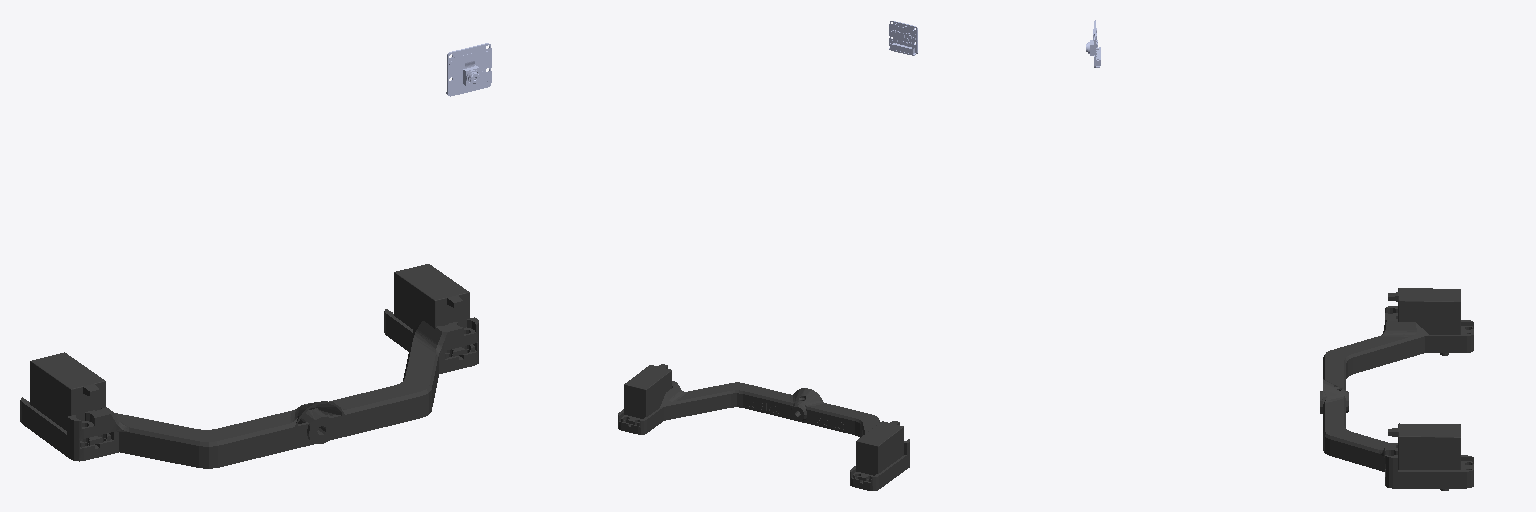
URDF robot description (A01_ExoMy.SLDASM):
<?xml version="1.0" encoding="utf-8"?>
<!-- This URDF was automatically created by SolidWorks to URDF Exporter! Originally created by [author] ([email redacted]) 
     Commit Version: 1.5.1-0-g916b5db  Build Version: 1.5.7152.31018
     For more information, please see http://wiki.ros.org/sw_urdf_exporter -->
<robot
  name="A01_ExoMy.SLDASM">
  <link
    name="base_link">
    <inertial>
      <origin
        xyz="0.000166132844511093 0.122611646294032 0.0176476740142159"
        rpy="0 0 0" />
      <mass
        value="0.620154414365186" />
      <inertia
        ixx="0.00160398254558214"
        ixy="5.68835545702948E-06"
        ixz="5.66100523488649E-06"
        iyy="0.00216940163447142"
        iyz="-1.96292973974915E-05"
        izz="0.00147929509086943" />
    </inertial>
    <visual>
      <origin
        xyz="0 0 0"
        rpy="0 0 0" />
      <geometry>
        <mesh
          filename="package://A01_ExoMy.SLDASM/meshes/base_link.STL" />
      </geometry>
      <material
        name="">
        <color
          rgba="0.298039215686275 0.298039215686275 0.298039215686275 1" />
      </material>
    </visual>
    <collision>
      <origin
        xyz="0 0 0"
        rpy="0 0 0" />
      <geometry>
        <mesh
          filename="package://A01_ExoMy.SLDASM/meshes/base_link.STL" />
      </geometry>
    </collision>
  </link>
  <link
    name="cam_link">
    <inertial>
      <origin
        xyz="-0.00249086473821564 0.000136649009533667 0.000569820673845381"
        rpy="0 0 0" />
      <mass
        value="0.00115745344893835" />
      <inertia
        ixx="3.97290092554322E-08"
        ixy="1.65336504816449E-13"
        ixz="-3.60412180476238E-11"
        iyy="2.88827920072805E-08"
        iyz="-2.52492241683058E-13"
        izz="6.76913771029694E-08" />
    </inertial>
    <visual>
      <origin
        xyz="0 0 0"
        rpy="0 0 0" />
      <geometry>
        <mesh
          filename="package://A01_ExoMy.SLDASM/meshes/cam_link.STL" />
      </geometry>
      <material
        name="">
        <color
          rgba="0.792156862745098 0.819607843137255 0.933333333333333 1" />
      </material>
    </visual>
    <collision>
      <origin
        xyz="0 0 0"
        rpy="0 0 0" />
      <geometry>
        <mesh
          filename="package://A01_ExoMy.SLDASM/meshes/cam_link.STL" />
      </geometry>
    </collision>
  </link>
  <joint
    name="cam_joint"
    type="fixed">
    <origin
      xyz="9.4215E-05 -0.063 0.27244"
      rpy="1.5708 -1.5708 0" />
    <parent
      link="base_link" />
    <child
      link="cam_link" />
    <axis
      xyz="0 0 0" />
  </joint>
  <link
    name="MRB_link">
    <inertial>
      <origin
        xyz="4.75495428451005E-06 0.00517244564382657 0.0532036918677615"
        rpy="0 0 0" />
      <mass
        value="0.108378303008227" />
      <inertia
        ixx="4.87361081191787E-05"
        ixy="-1.48702235400227E-09"
        ixz="1.5114207716519E-08"
        iyy="0.000292228221202496"
        iyz="2.65262441635302E-07"
        izz="0.000257396094560959" />
    </inertial>
    <visual>
      <origin
        xyz="0 0 0"
        rpy="0 0 0" />
      <geometry>
        <mesh
          filename="package://A01_ExoMy.SLDASM/meshes/MRB_link.STL" />
      </geometry>
      <material
        name="">
        <color
          rgba="0.298039215686275 0.298039215686275 0.298039215686275 1" />
      </material>
    </visual>
    <collision>
      <origin
        xyz="0 0 0"
        rpy="0 0 0" />
      <geometry>
        <mesh
          filename="package://A01_ExoMy.SLDASM/meshes/MRB_link.STL" />
      </geometry>
    </collision>
  </link>
  <joint
    name="MRB_joint"
    type="continuous">
    <origin
      xyz="0 0.082 0.017"
      rpy="1.5708 0 -3.1416" />
    <parent
      link="base_link" />
    <child
      link="MRB_link" />
    <axis
      xyz="0 0 1" />
  </joint>
  <link
    name="STR_LR_link">
    <inertial>
      <origin
        xyz="-0.116237029100464 -0.0491787009553567 0.02177451371448"
        rpy="0 0 0" />
      <mass
        value="0.0711741624806838" />
      <inertia
        ixx="3.36879478479988E-05"
        ixy="-4.73850731914459E-06"
        ixz="8.98028473572837E-09"
        iyy="1.59152321238693E-05"
        iyz="1.40355471130006E-07"
        izz="4.10598360484863E-05" />
    </inertial>
    <visual>
      <origin
        xyz="0 0 0"
        rpy="0 0 0" />
      <geometry>
        <mesh
          filename="package://A01_ExoMy.SLDASM/meshes/STR_LR_link.STL" />
      </geometry>
      <material
        name="">
        <color
          rgba="0.698039215686274 0.698039215686274 0.698039215686274 1" />
      </material>
    </visual>
    <collision>
      <origin
        xyz="0 0 0"
        rpy="0 0 0" />
      <geometry>
        <mesh
          filename="package://A01_ExoMy.SLDASM/meshes/STR_LR_link.STL" />
      </geometry>
    </collision>
  </link>
  <joint
    name="STR_LR_joint"
    type="continuous">
    <origin
      xyz="0 0 0.058775"
      rpy="0 0 0" />
    <parent
      link="MRB_link" />
    <child
      link="STR_LR_link" />
    <axis
      xyz="0 0 1" />
  </joint>
  <link
    name="STR_RR_link">
    <inertial>
      <origin
        xyz="-0.11616805427964 -0.0492434774044638 -0.0217766439662085"
        rpy="0 0 0" />
      <mass
        value="0.0704590005105739" />
      <inertia
        ixx="3.31436979459759E-05"
        ixy="-4.64776105131268E-06"
        ixz="-7.92538614535716E-09"
        iyy="1.57164850586242E-05"
        iyz="-1.37762287913578E-07"
        izz="4.04186277976059E-05" />
    </inertial>
    <visual>
      <origin
        xyz="0 0 0"
        rpy="0 0 0" />
      <geometry>
        <mesh
          filename="package://A01_ExoMy.SLDASM/meshes/STR_RR_link.STL" />
      </geometry>
      <material
        name="">
        <color
          rgba="0.698039215686274 0.698039215686274 0.698039215686274 1" />
      </material>
    </visual>
    <collision>
      <origin
        xyz="0 0 0"
        rpy="0 0 0" />
      <geometry>
        <mesh
          filename="package://A01_ExoMy.SLDASM/meshes/STR_RR_link.STL" />
      </geometry>
    </collision>
  </link>
  <joint
    name="STR_RR_joint"
    type="continuous">
    <origin
      xyz="0 0 0.058775"
      rpy="3.1416 0 -3.1416" />
    <parent
      link="MRB_link" />
    <child
      link="STR_RR_link" />
    <axis
      xyz="0 0 1" />
  </joint>
</robot>

--- Render facts (derived) ---
Views: 3 orthographic renders of the robot side by side, from view 1: azimuth 30°, elevation 25°; view 2: azimuth 150°, elevation 25°; view 3: azimuth 270°, elevation 25°.
Robot: A01_ExoMy.SLDASM — 5 links, 4 joints (3 continuous, 1 fixed); root link base_link; default pose: all joints at 0.
Links seen in each view (by area): view 1: MRB_link, cam_link; view 2: MRB_link, cam_link; view 3: MRB_link.
Boxes of the visible links, x1=… form: MRB_link: x1=20, y1=264, x2=478, y2=468; cam_link: x1=446, y1=43, x2=491, y2=96; MRB_link: x1=618, y1=364, x2=909, y2=490; cam_link: x1=889, y1=21, x2=917, y2=55; MRB_link: x1=1320, y1=288, x2=1473, y2=490.
Bounding box of the posed robot: 0.2326 × 0.2518 × 0.2815 m (x, y, z).
Meshes: 5 distinct files referenced, 2 mesh visuals loaded (2 binary STL); not drawn: 3 (reference not matched to a file when rendering).